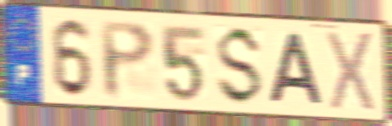5: (159, 23, 209, 103)
6: (49, 16, 95, 100)
A: (268, 31, 327, 109)
P: (98, 20, 157, 102)
S: (214, 24, 265, 109)
X: (325, 29, 376, 116)
